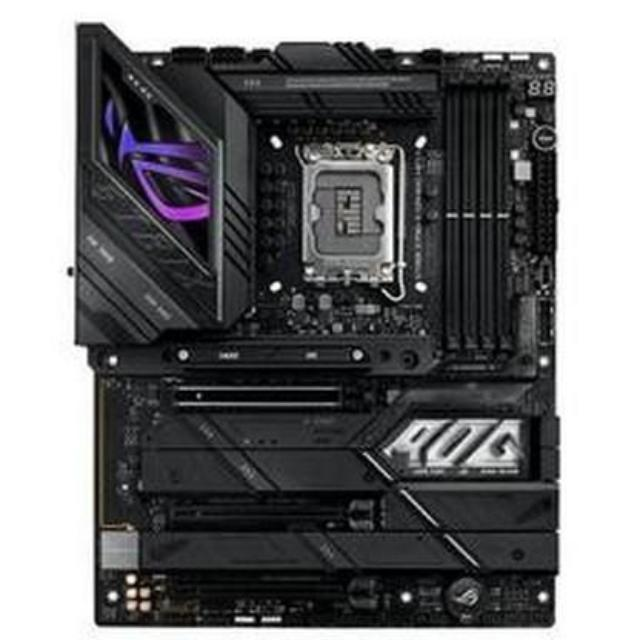Mainboard: (66, 41, 568, 626)
